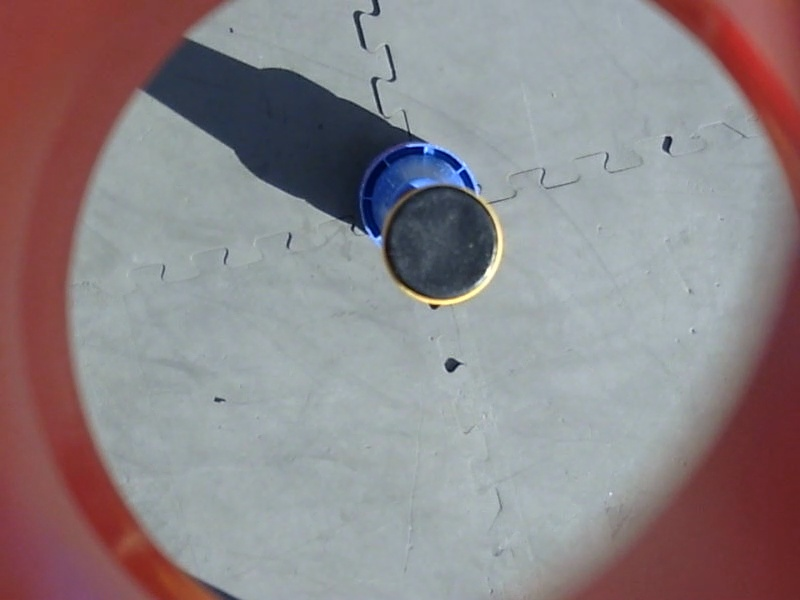tip: (375, 181, 510, 311)
